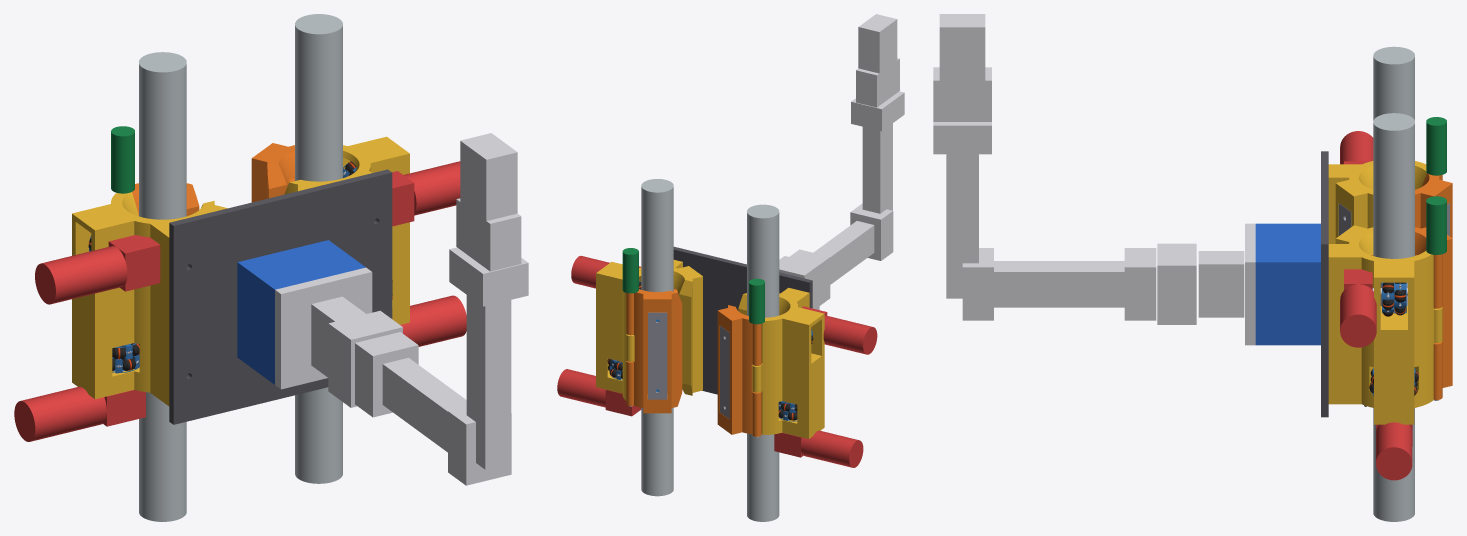
The model's file is cart-assembly-v4.glb.
The picture shows the model from 3 angles, left to right: view 1: azimuth 30°, elevation 25°; view 2: azimuth 150°, elevation 25°; view 3: azimuth 270°, elevation 25°; orthographic projection. The views are drawn at different scales.
Parts seen in each view (by area): view 1: so101_arm_envelope, base_plate, hand_on_pipe_B_sleeve, track_pipe_B, track_pipe_C, battery, hand_on_pipe_C_sleeve, hand_on_pipe_B_drive_motor, hand_on_pipe_B_roll_motor, hand_on_pipe_C_roll_motor, hand_on_pipe_C_drive_motor, hand_on_pipe_C_jaw (+4 smaller); view 2: so101_arm_envelope, hand_on_pipe_B_sleeve, hand_on_pipe_C_sleeve, track_pipe_C, track_pipe_B, hand_on_pipe_C_jaw, base_plate, hand_on_pipe_B_jaw, hand_on_pipe_C_p60_cap, hand_on_pipe_B_roll_motor, hand_on_pipe_B_drive_motor, hand_on_pipe_C_roll_motor (+6 smaller); view 3: so101_arm_envelope, hand_on_pipe_C_sleeve, track_pipe_C, battery, hand_on_pipe_B_sleeve, hand_on_pipe_C_jaw, track_pipe_B, base_plate, hand_on_pipe_C_drive_motor, hand_on_pipe_C_roll_motor, hand_on_pipe_B_jaw, hand_on_pipe_B_drive_motor (+2 smaller).
Boxes of the visible parts, box(x1,y1,x2,y2) form: so101_arm_envelope: box(275, 133, 528, 485); base_plate: box(169, 169, 392, 424); hand_on_pipe_B_sleeve: box(72, 192, 227, 406); track_pipe_B: box(139, 52, 186, 521); track_pipe_C: box(295, 14, 342, 483); battery: box(237, 240, 365, 384); hand_on_pipe_C_sleeve: box(284, 136, 409, 324); hand_on_pipe_B_drive_motor: box(35, 246, 127, 304); hand_on_pipe_B_roll_motor: box(14, 386, 106, 441); hand_on_pipe_C_roll_motor: box(400, 295, 466, 346); hand_on_pipe_C_drive_motor: box(404, 161, 460, 215); hand_on_pipe_C_jaw: box(251, 143, 294, 202); so101_arm_envelope: box(779, 14, 904, 309); hand_on_pipe_B_sleeve: box(738, 287, 824, 438); hand_on_pipe_C_sleeve: box(596, 260, 702, 400); track_pipe_C: box(641, 179, 673, 496); track_pipe_B: box(747, 204, 779, 521); hand_on_pipe_C_jaw: box(626, 289, 682, 413); base_plate: box(673, 246, 812, 394); hand_on_pipe_B_jaw: box(717, 305, 761, 436); hand_on_pipe_C_p60_cap: box(648, 312, 667, 399); hand_on_pipe_B_roll_motor: box(801, 430, 863, 467); hand_on_pipe_B_drive_motor: box(823, 315, 877, 354); hand_on_pipe_C_roll_motor: box(557, 369, 605, 407); so101_arm_envelope: box(933, 14, 1255, 345); hand_on_pipe_C_sleeve: box(1328, 225, 1442, 424); track_pipe_C: box(1373, 113, 1414, 521); battery: box(1255, 223, 1320, 345); hand_on_pipe_B_sleeve: box(1328, 161, 1426, 243); hand_on_pipe_C_jaw: box(1415, 227, 1452, 399); track_pipe_B: box(1373, 46, 1414, 120); base_plate: box(1321, 151, 1328, 417); hand_on_pipe_C_drive_motor: box(1340, 284, 1376, 347); hand_on_pipe_C_roll_motor: box(1376, 422, 1412, 480); hand_on_pipe_B_jaw: box(1415, 173, 1452, 238); hand_on_pipe_B_drive_motor: box(1340, 131, 1373, 164).
Size of the model in its own units: 332 by 388 by 397.
